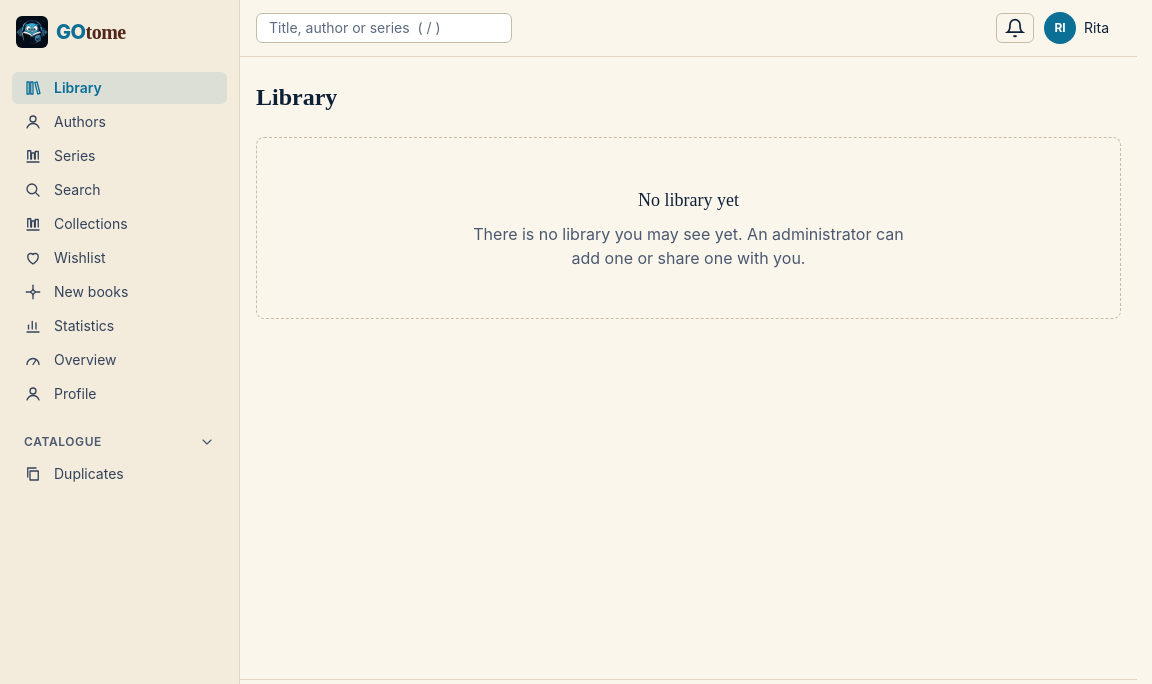
Scenario: signed in › leads to the profile from the navigation and the account menu
Click the button with aria-label "Account: Rita" at (1082, 28), box [1042,10,1121,46]
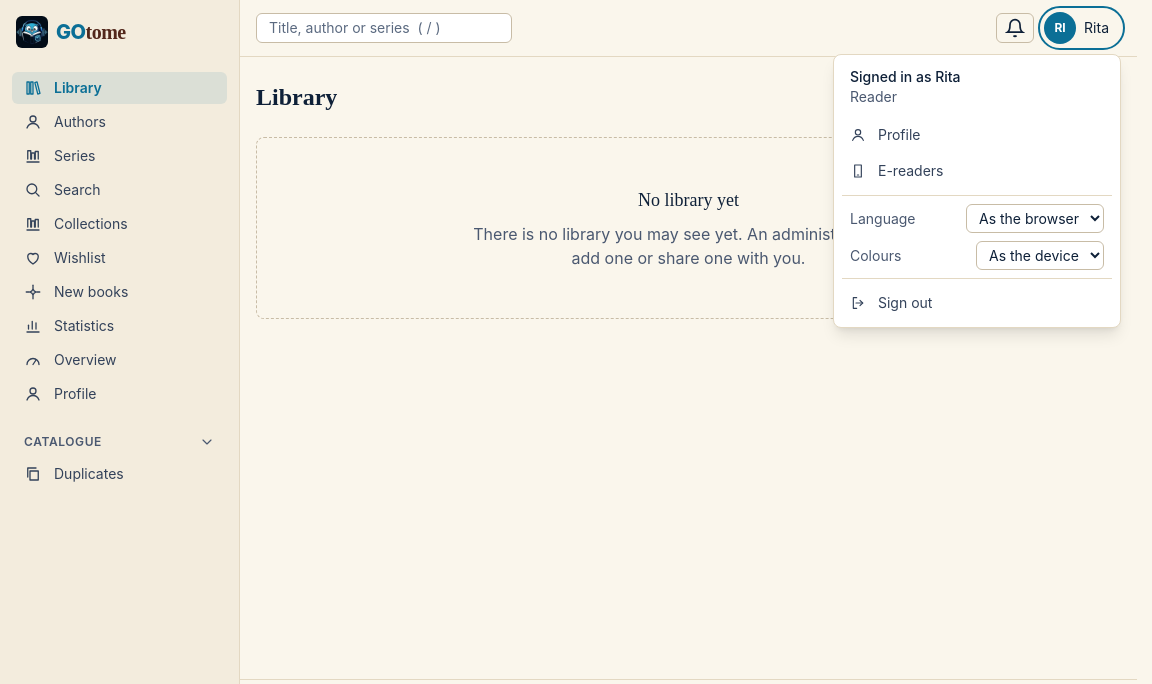
Now the text "Signed in as Rita" is shown, box [850,68,961,85]
Now the text "Reader" is shown, box [850,88,897,105]
Press Escape
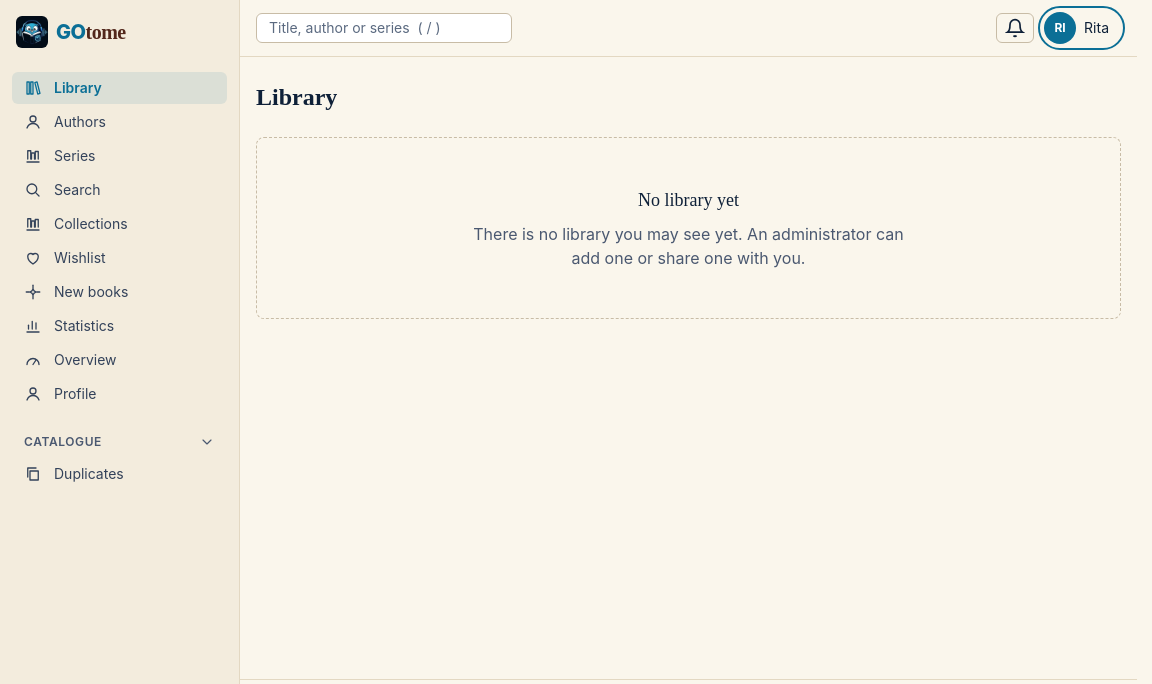
Now the element "Account" is gone
Click the button with aria-label "Account: Rita" at (1082, 28), box [1042,10,1121,46]
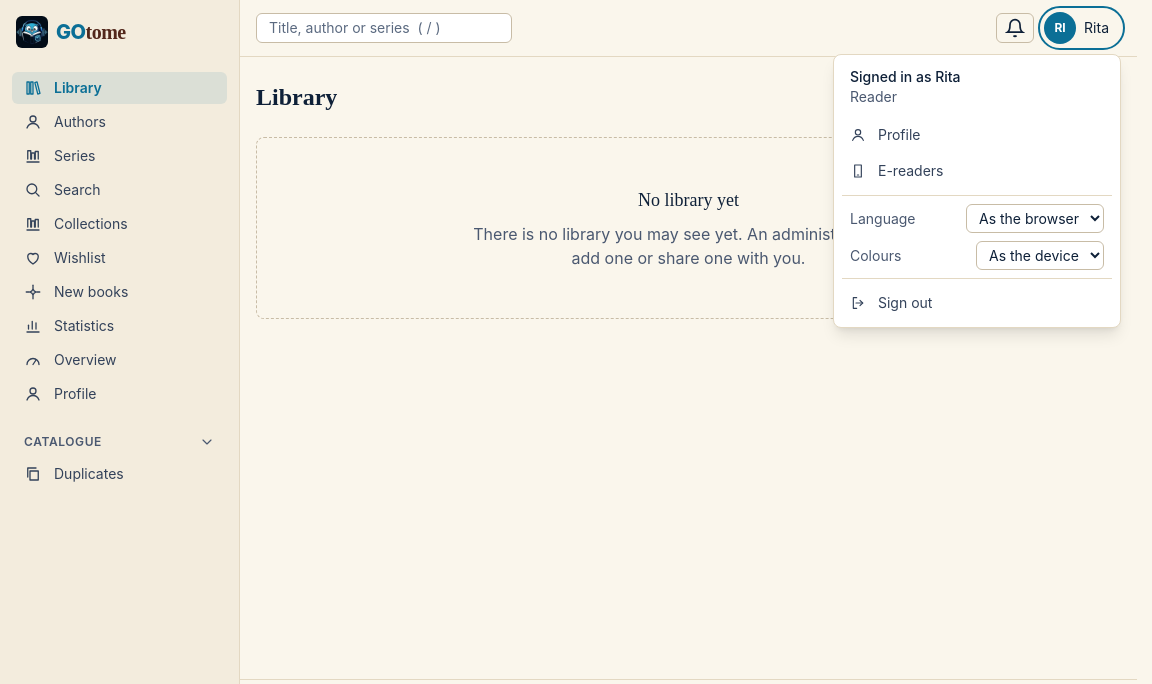
Click the link "Profile" below "Signed in as Rita" at (885, 134), box [850,126,920,143]
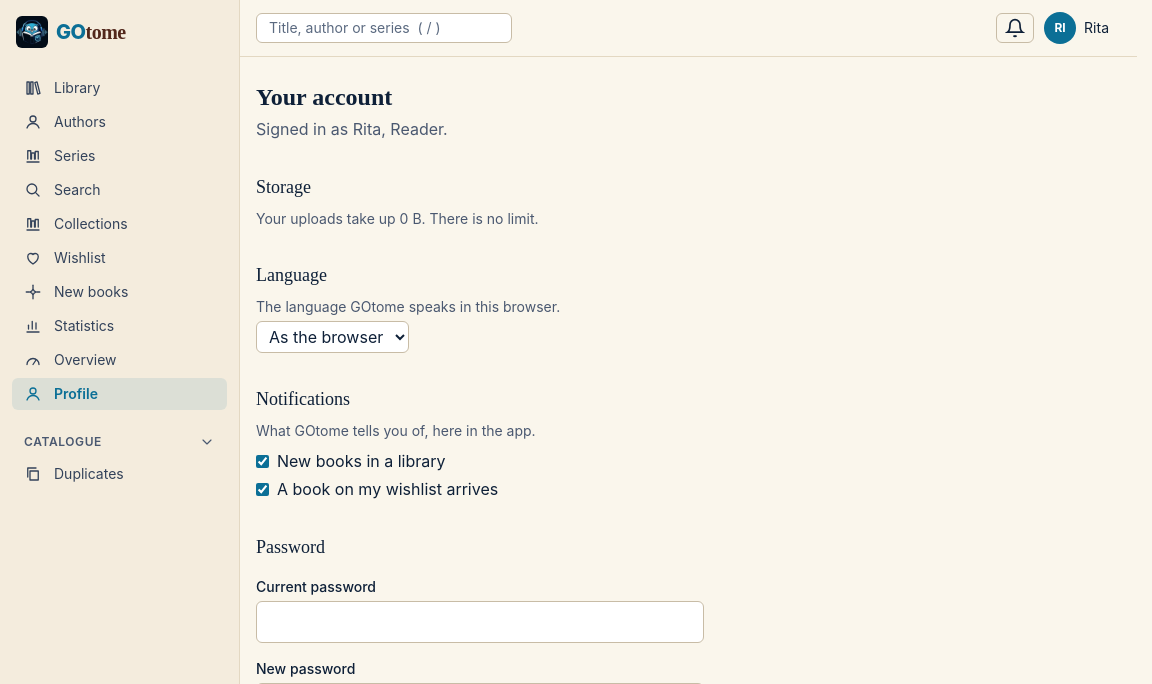
Now the heading "Your account" is shown, box [256,84,392,110]
